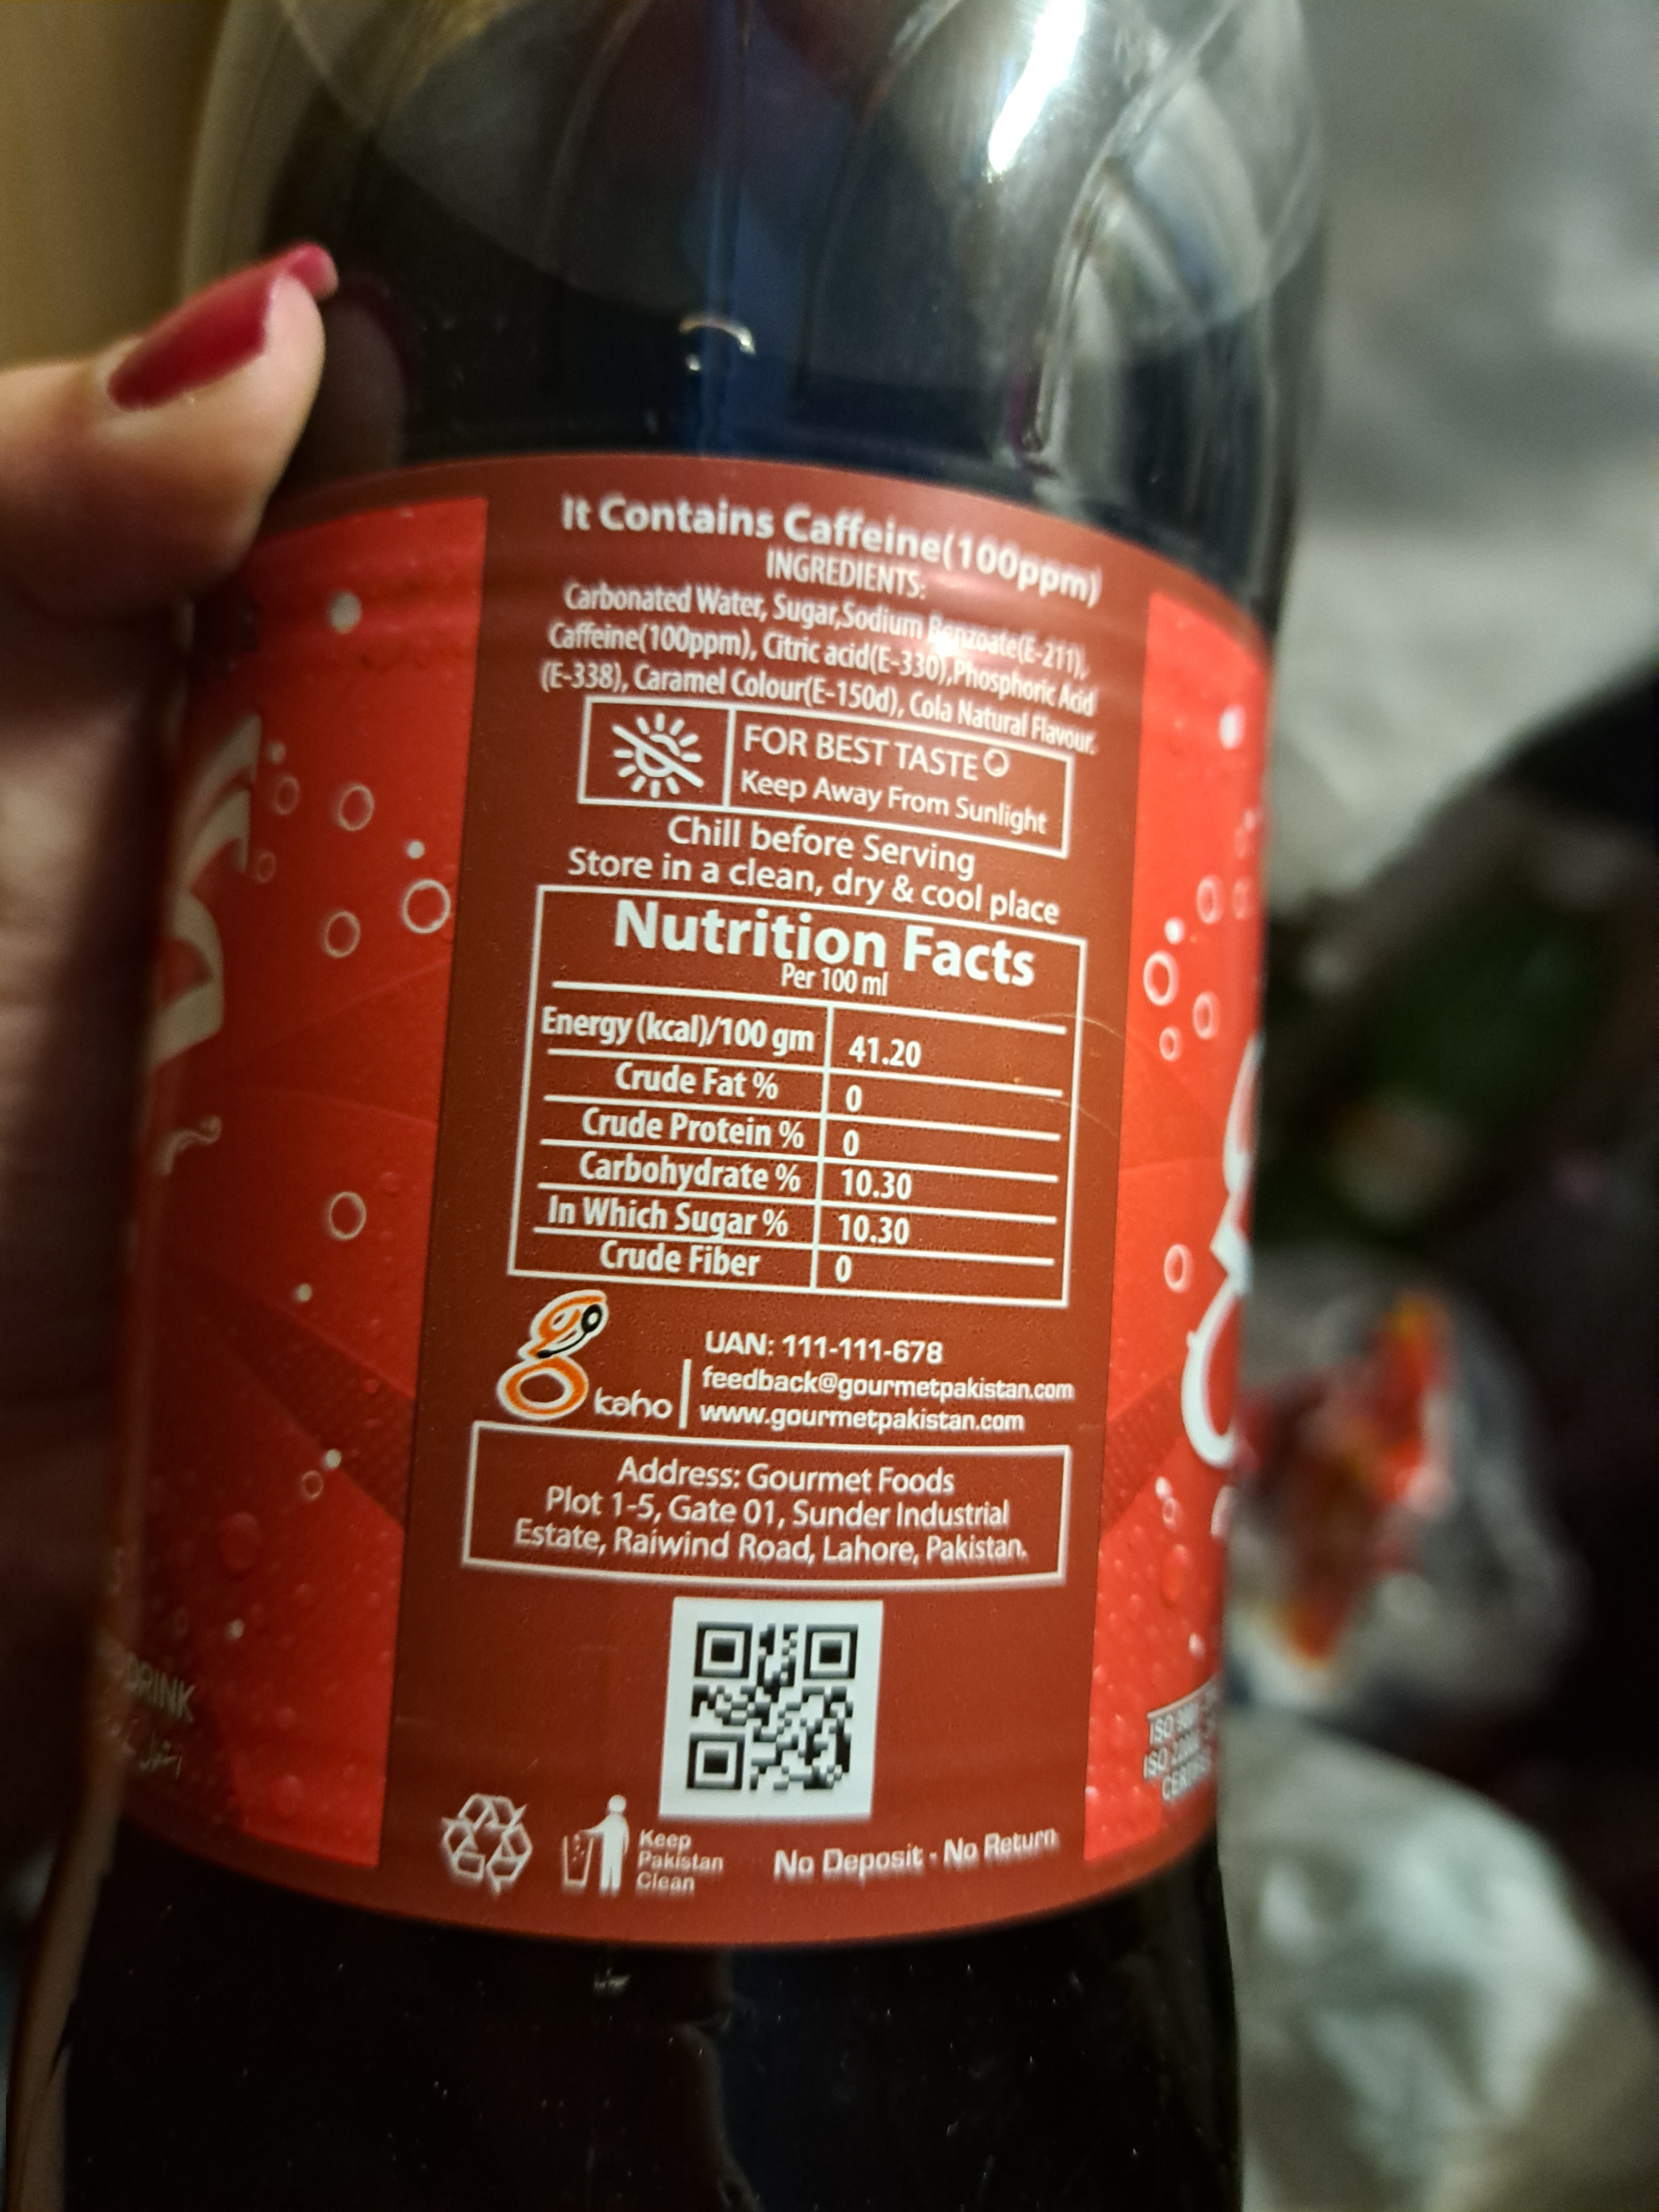table: (533, 881, 1072, 1315)
